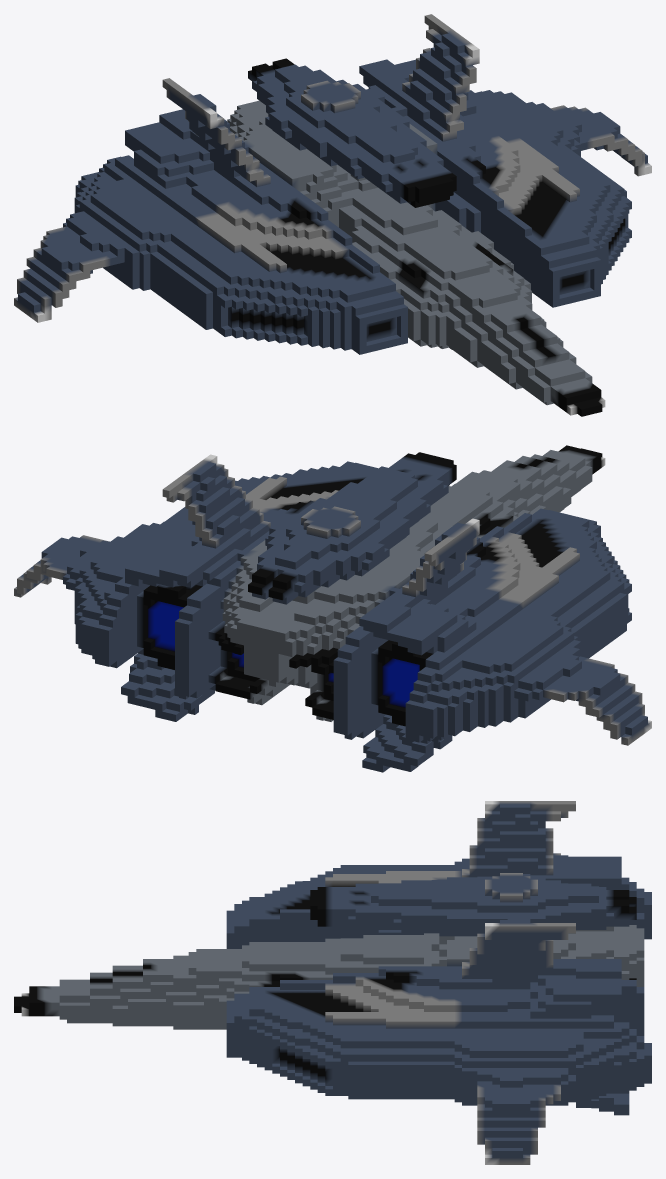
File: spaceship1.obj
3 renders of one model, top to bottom at view 1: azimuth 30°, elevation 25°; view 2: azimuth 150°, elevation 25°; view 3: azimuth 270°, elevation 25°, orthographic. The views are drawn at different scales.
Size of the model in its own units: 8.9 by 2.8 by 8.4.
